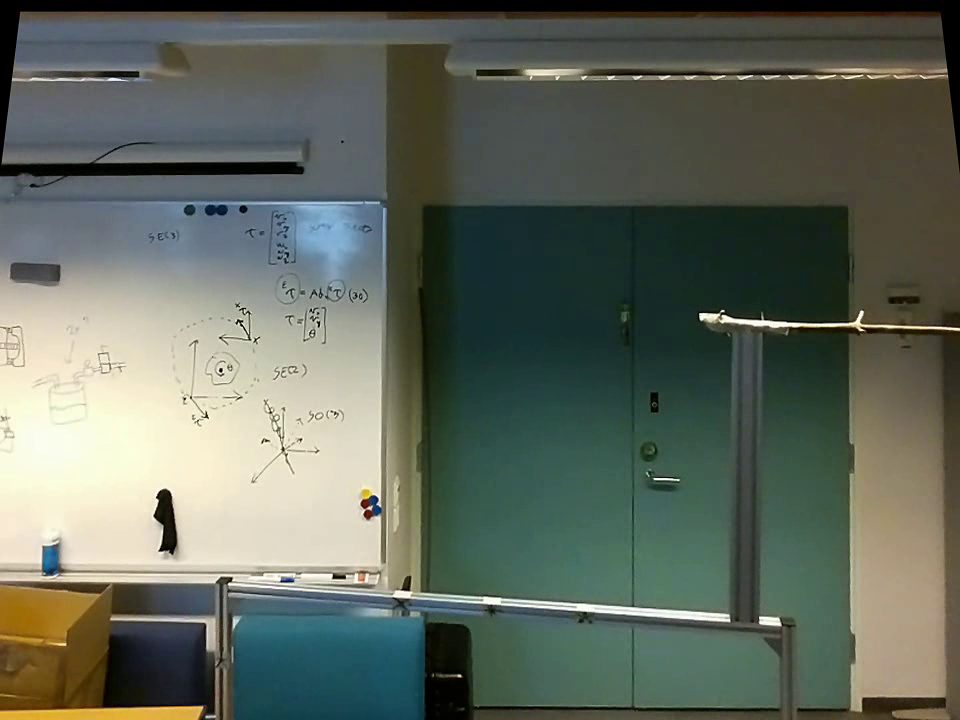aluminum_frame: (226, 569, 779, 639), (2, 556, 392, 592), (724, 334, 760, 619), (4, 189, 391, 213), (377, 206, 391, 579), (207, 574, 239, 716), (772, 605, 803, 715)
branch: (790, 303, 956, 342)
